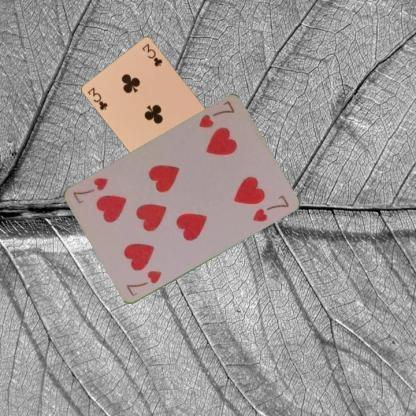3c: (84, 85, 110, 111)
7h: (196, 99, 236, 130), (123, 268, 163, 298)
